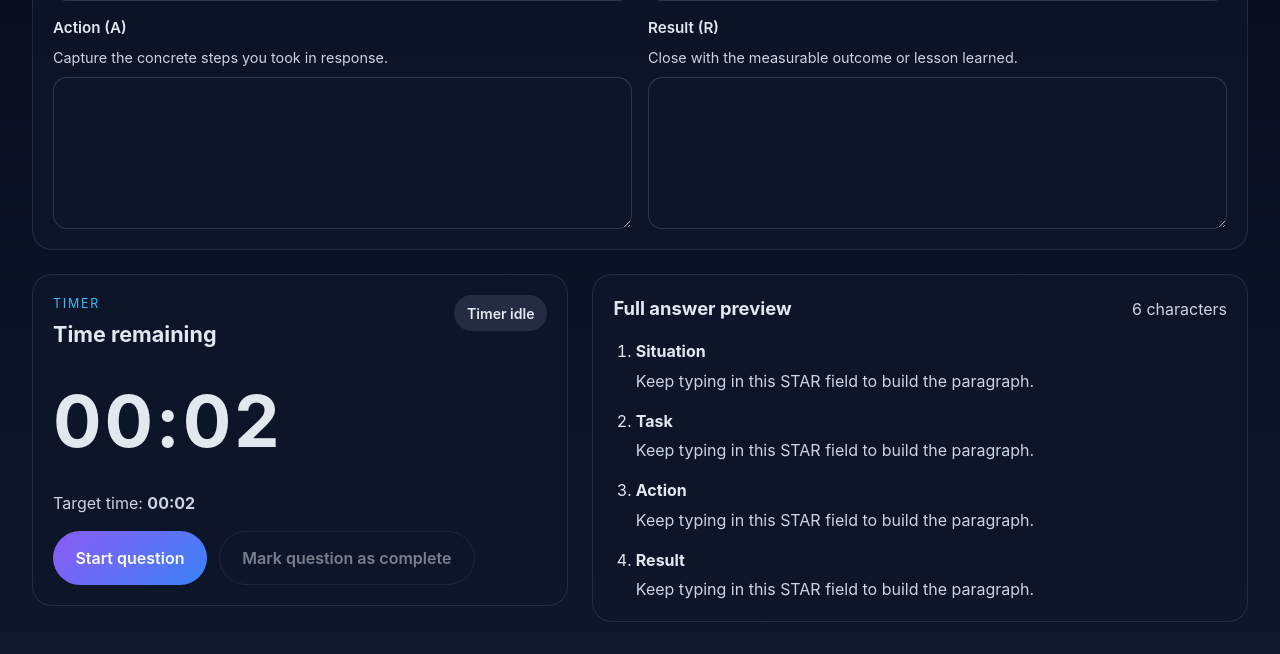
it: Practice session flow › shows the current question, starts the timer, and keeps the STAR fields editable
The width and height of the screenshot is (1280, 654).
(page scrolled)
Click the button "Start question" at (130, 558), box [53,530,207,585]
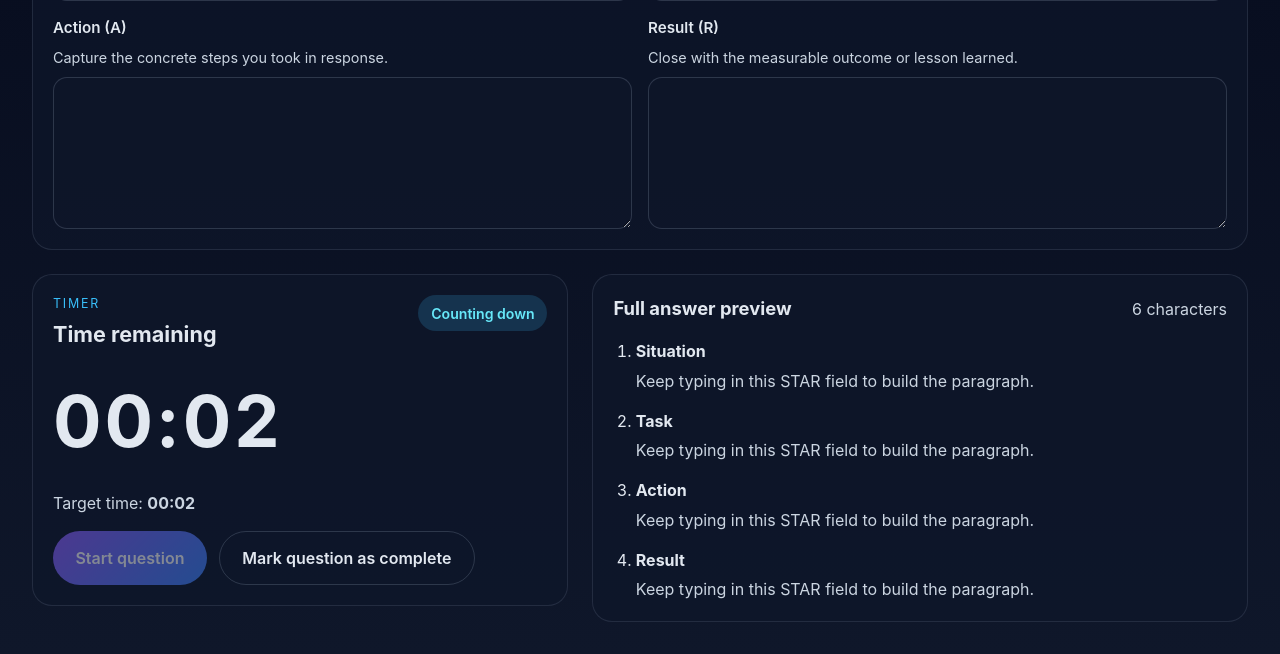
Now the text "Counting down" is shown, box [418,295,547,331]
Now the button "Mark question as complete" is enabled, box [219,530,475,585]
